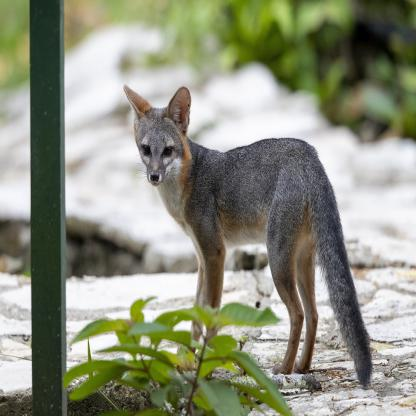zorro: (119, 75, 379, 396)
